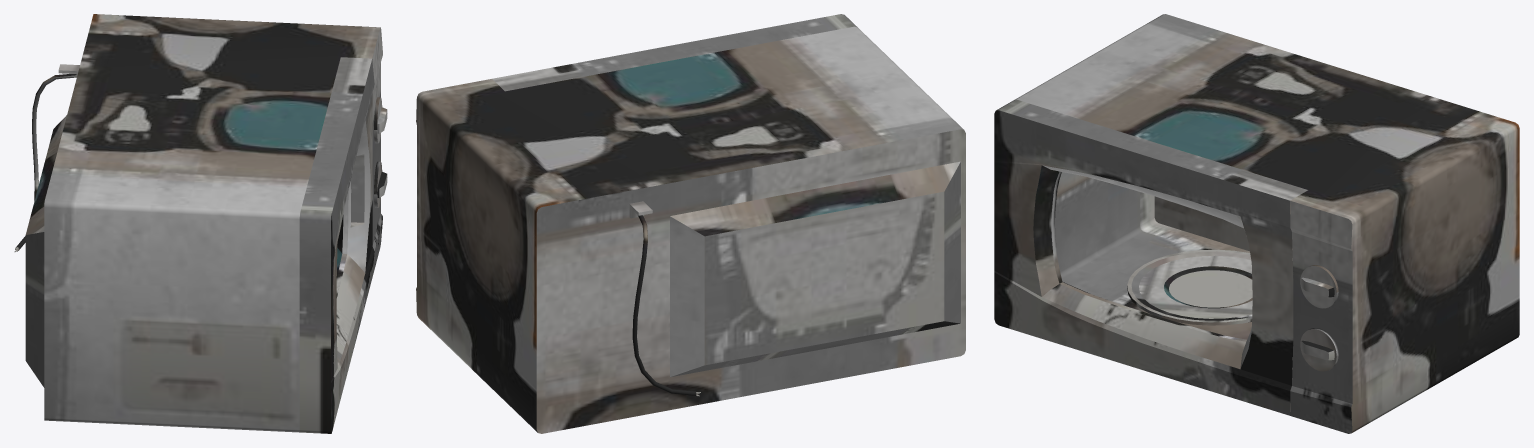
The model's file is microwave.glb.
3 renders of one model, left to right at view 1: azimuth 30°, elevation 25°; view 2: azimuth 150°, elevation 25°; view 3: azimuth 270°, elevation 25°, orthographic. The views are drawn at different scales.
Visible parts, largest first — view 1: M7_low_КриваяБезье; view 2: M7_low_КриваяБезье; view 3: M7_low_КриваяБезье.
Part boxes in pixels (x1,y1,x2,y2): M7_low_КриваяБезье: [14, 14, 387, 433]; M7_low_КриваяБезье: [416, 14, 965, 433]; M7_low_КриваяБезье: [994, 14, 1519, 433].
Size of the model in its own units: 0.4685 by 0.2259 by 0.5.
Materials: 1 (1 with a texture image).
